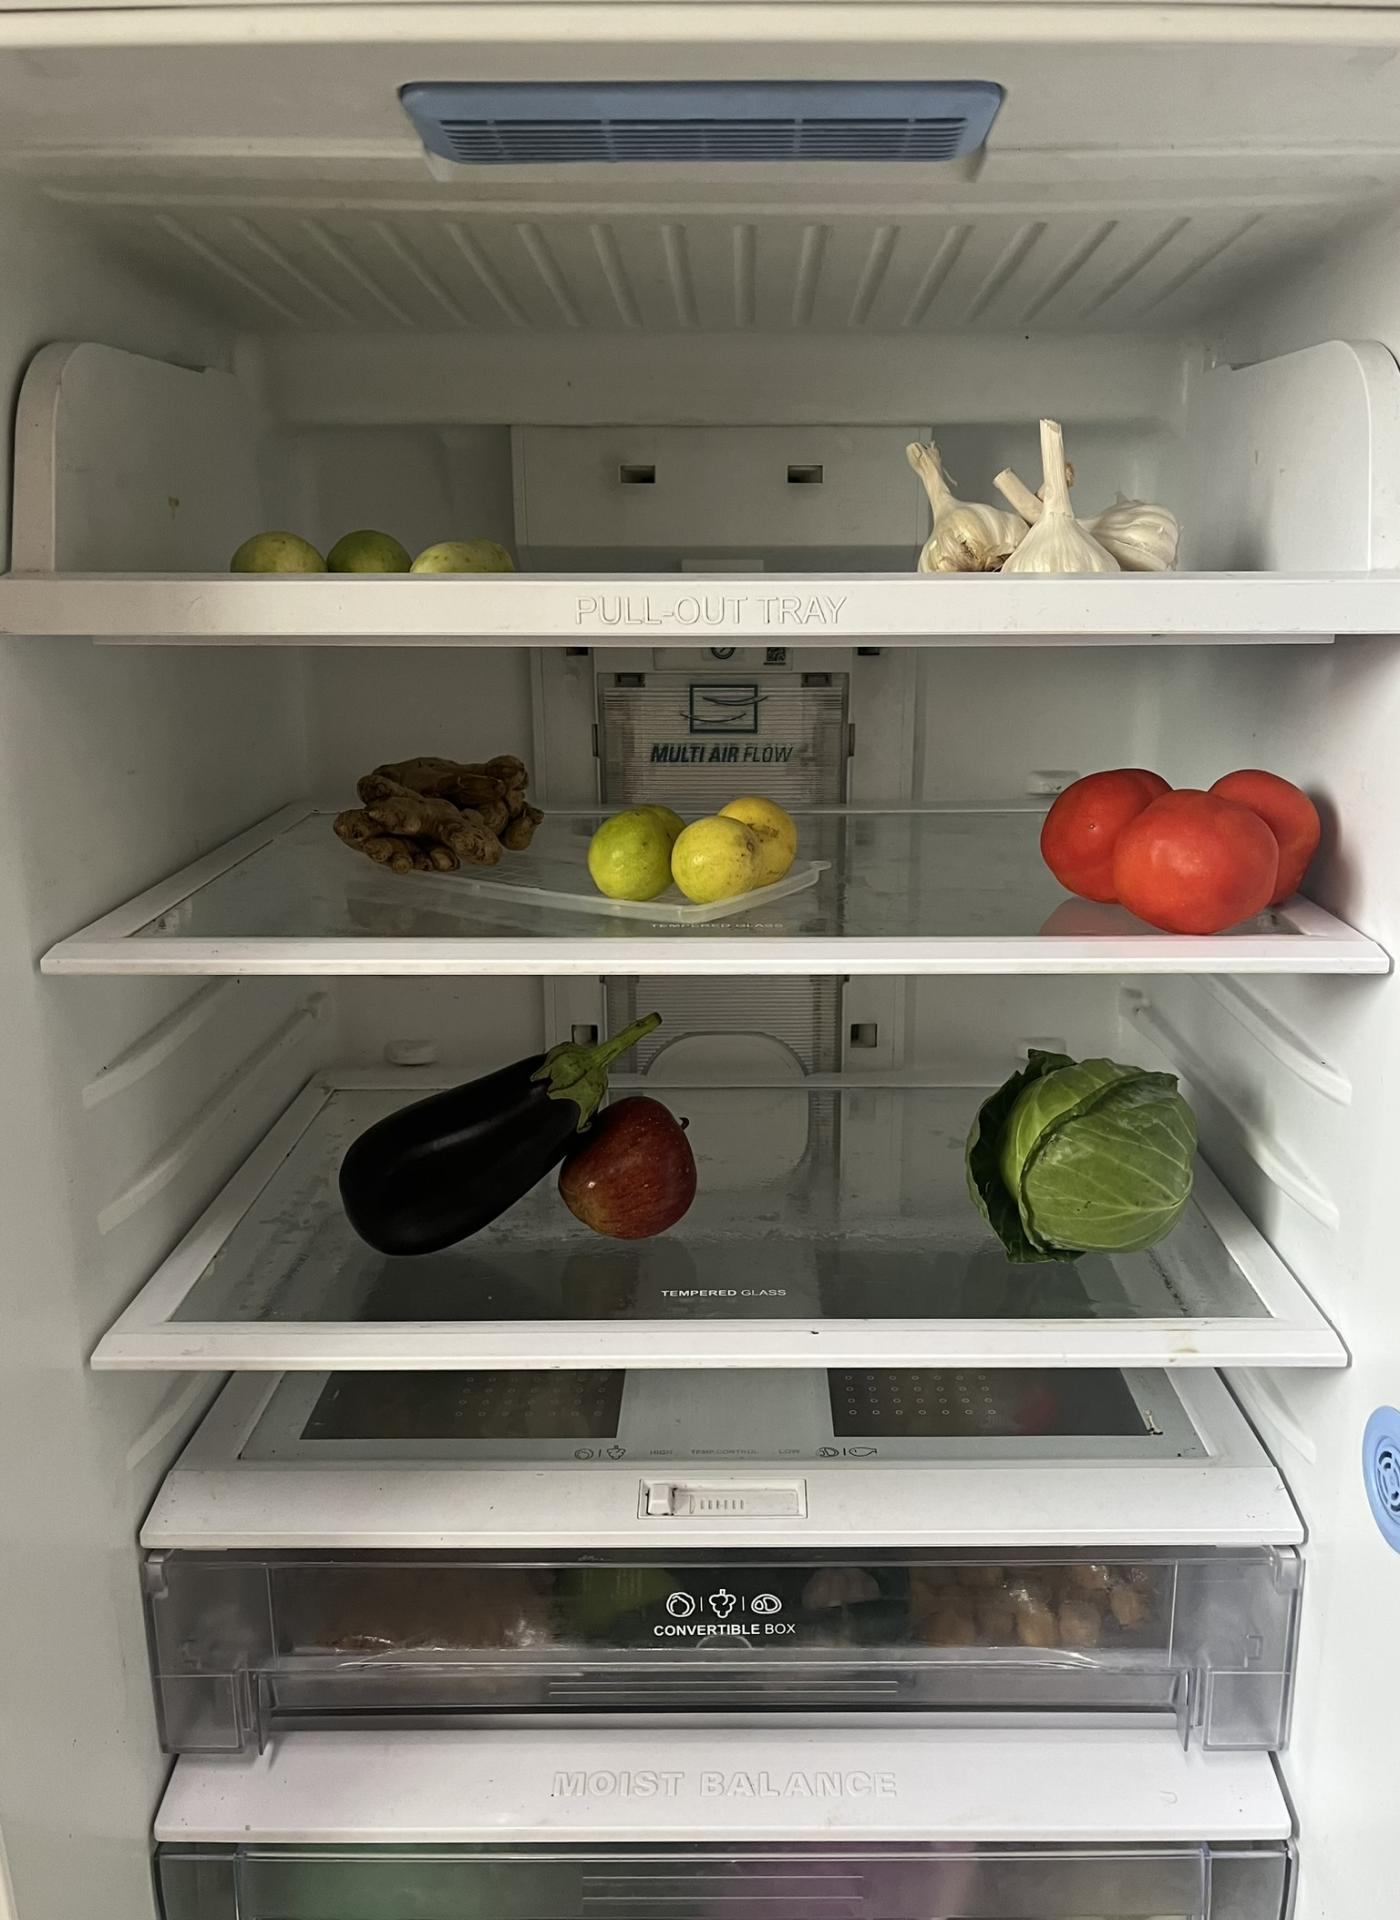apple: (558, 1090, 696, 1245)
cabbage: (962, 1045, 1206, 1264)
cucumber: (227, 513, 525, 575)
garlic: (898, 417, 1182, 572)
ginger: (331, 750, 550, 880)
lemon: (587, 790, 807, 905)
tomato: (1038, 763, 1328, 936)
